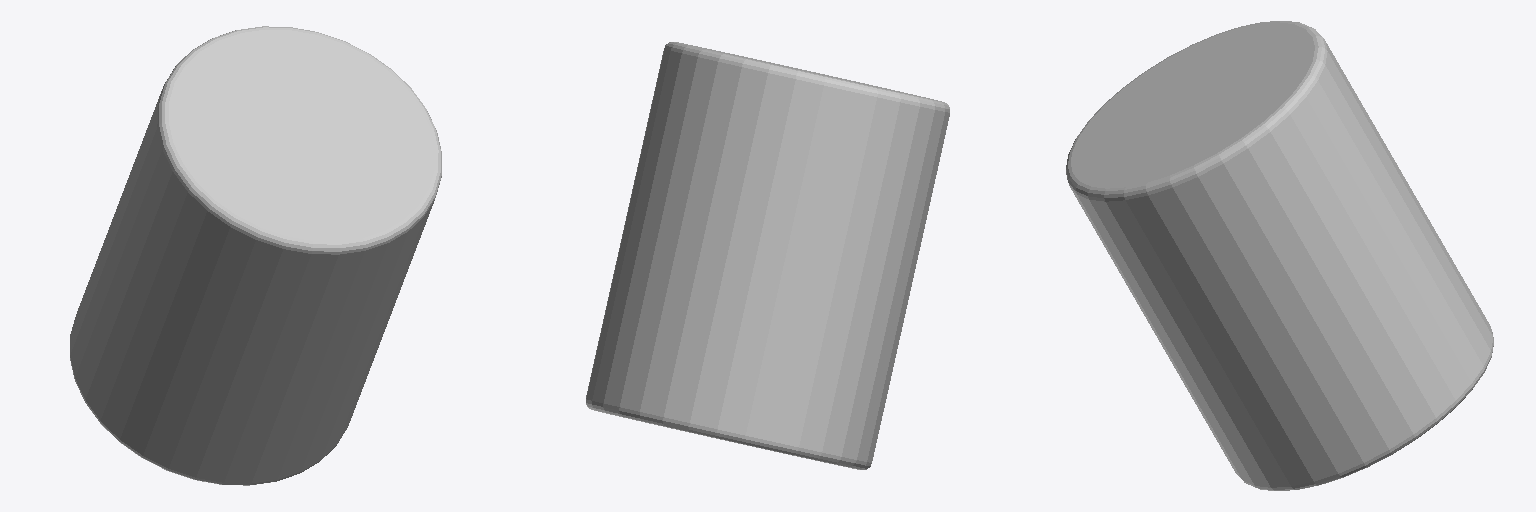
Rendered from cylinder_red.obj.
3 renders of one model, left to right at view 1: azimuth 30°, elevation 25°; view 2: azimuth 150°, elevation 25°; view 3: azimuth 270°, elevation 25°, orthographic.
Visible parts, largest first — view 1: 000_Cylinder; view 2: 000_Cylinder; view 3: 000_Cylinder.
Part boxes in pixels (x1,y1,x2,y2): 000_Cylinder: (70, 26, 441, 485); 000_Cylinder: (586, 42, 949, 469); 000_Cylinder: (1066, 21, 1493, 490).
Size of the model in its own units: 130 by 202 by 186.